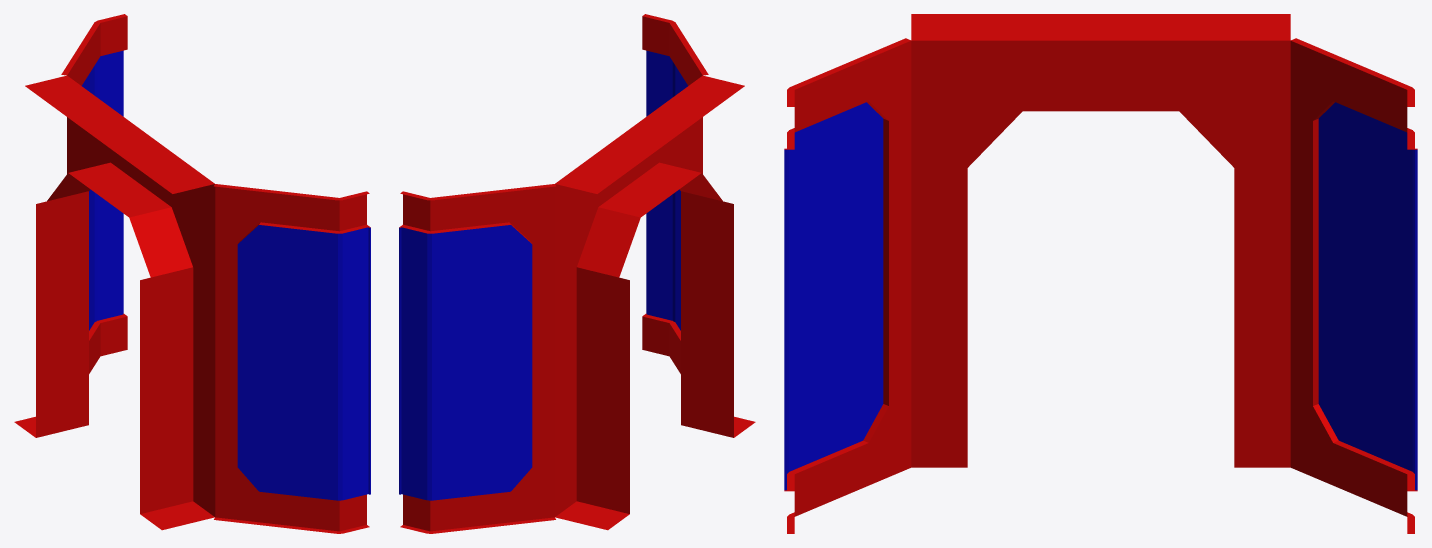
Rendered from block6.fbx.
3 renders of one model, left to right at view 1: azimuth 30°, elevation 25°; view 2: azimuth 150°, elevation 25°; view 3: azimuth 270°, elevation 25°, orthographic. The views are drawn at different scales.
Visible parts, largest first — view 1: muro_block6; view 2: muro_block6; view 3: muro_block6.
Part boxes in pixels (<box>): muro_block6: <box>14,14,370,533</box>; muro_block6: <box>399,14,755,533</box>; muro_block6: <box>784,14,1417,533</box>.
Size of the model in its own units: 150 by 300 by 403.
